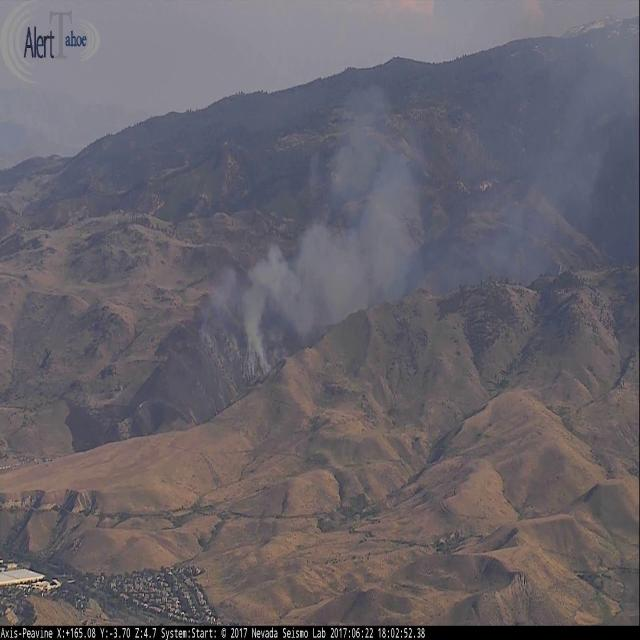smoke: (210, 12, 640, 405)
